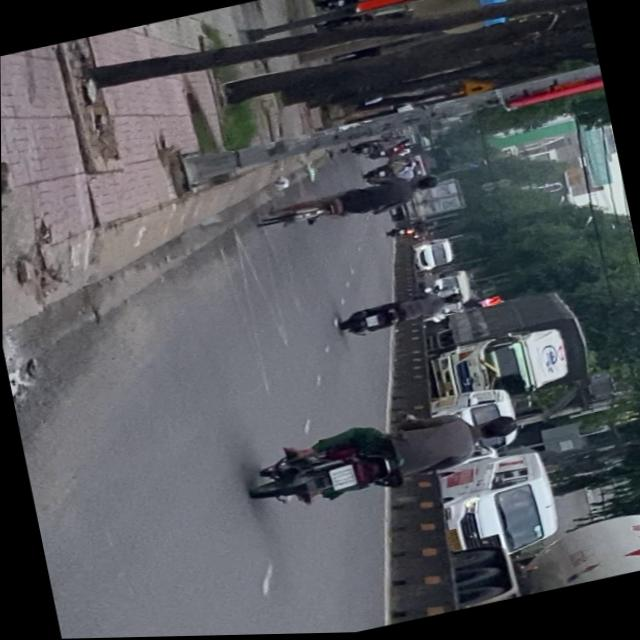licenseplate: (241, 394, 529, 523)
motorcyclist: (473, 415, 520, 447)
nohelmet: (329, 467, 357, 492)
